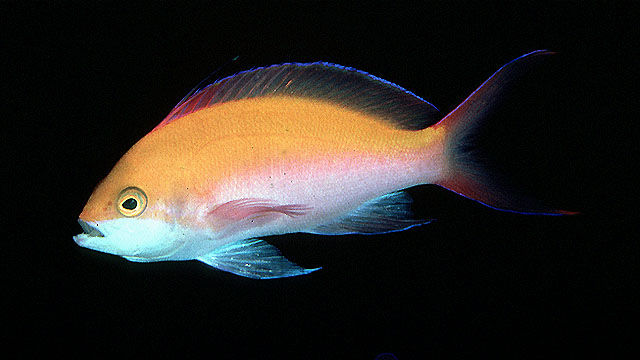fish: (72, 50, 584, 280)
